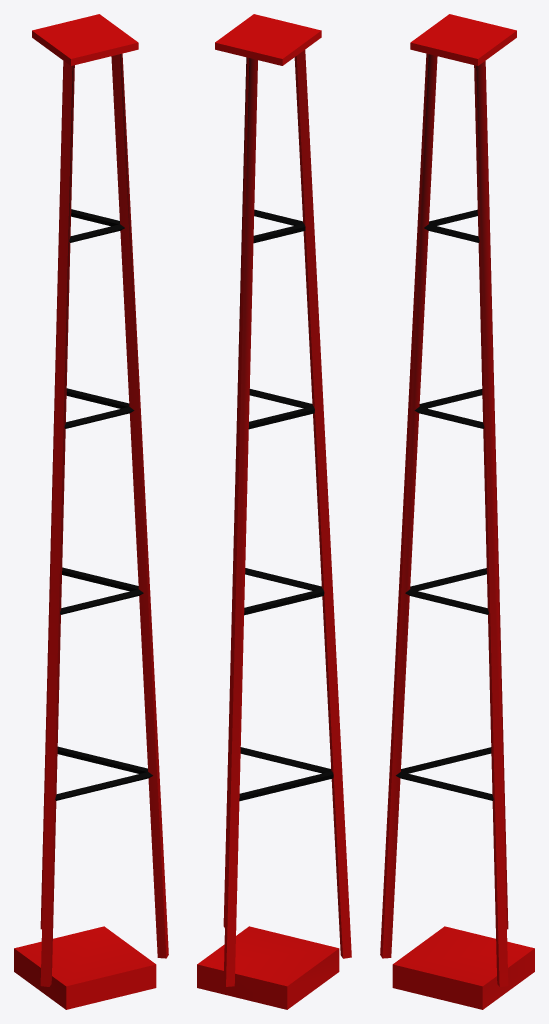
Rendered from rim_mast.glb.
The picture shows the model from 3 angles, left to right: view 1: azimuth 30°, elevation 25°; view 2: azimuth 150°, elevation 25°; view 3: azimuth 330°, elevation 25°; orthographic projection.
Visible parts, largest first — view 1: rim_mast; view 2: rim_mast; view 3: rim_mast.
Boxes of the visible parts, x1,y1,x2,y2 form: rim_mast: (14, 14, 168, 1009); rim_mast: (197, 14, 351, 1009); rim_mast: (380, 14, 534, 1009).
Size of the model in its own units: 5.69 by 40 by 5.25.
